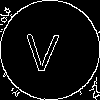V: (25, 25, 60, 72)
